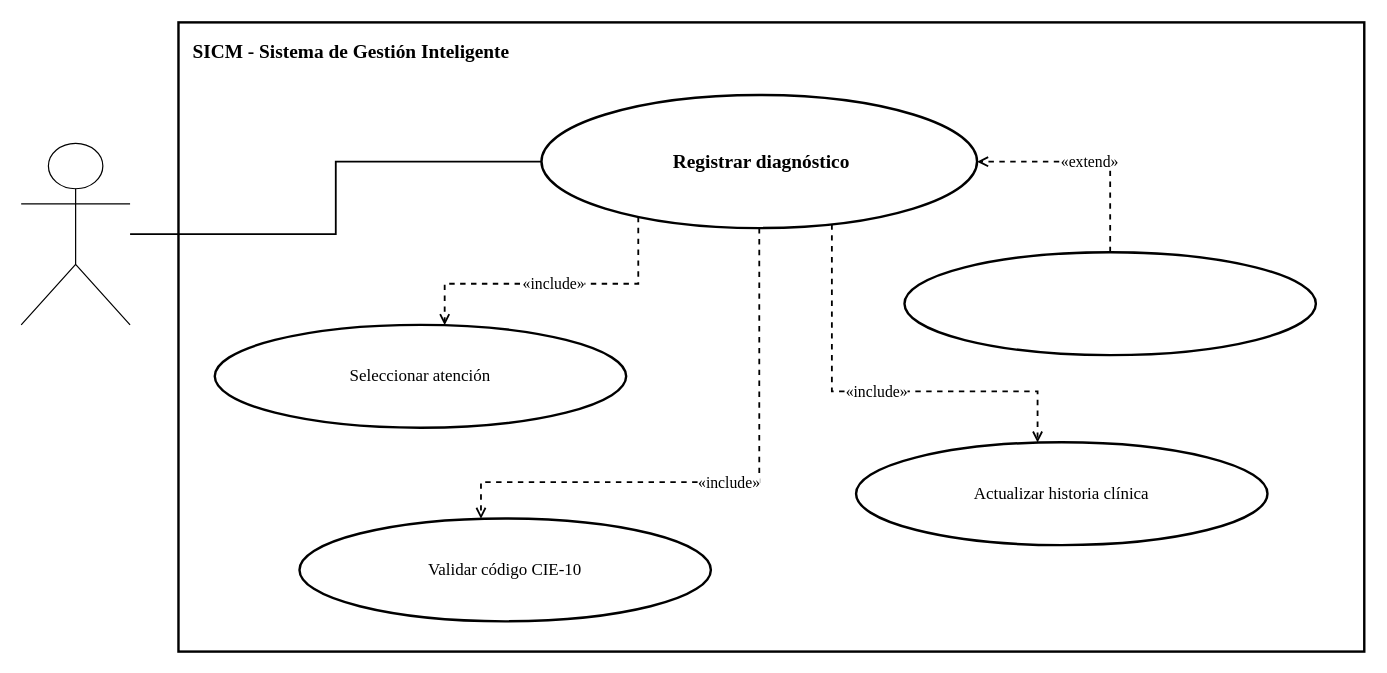
Some shapes in this 1387 by 673 pixel diagram are drawn without their labels. Here are the shapes that lost their labels. From the top down, the box of each, then its label:
(20, 142, 130, 325): Médico
(903, 250, 1316, 356): Registrar diagnóstico presuntivo
